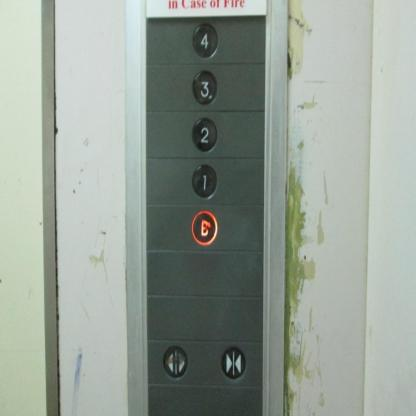1: (189, 161, 219, 201)
2: (190, 116, 219, 154)
3: (191, 67, 219, 107)
4: (191, 22, 219, 60)
B: (190, 209, 218, 248)
close: (219, 344, 247, 381)
open: (161, 343, 189, 380)
